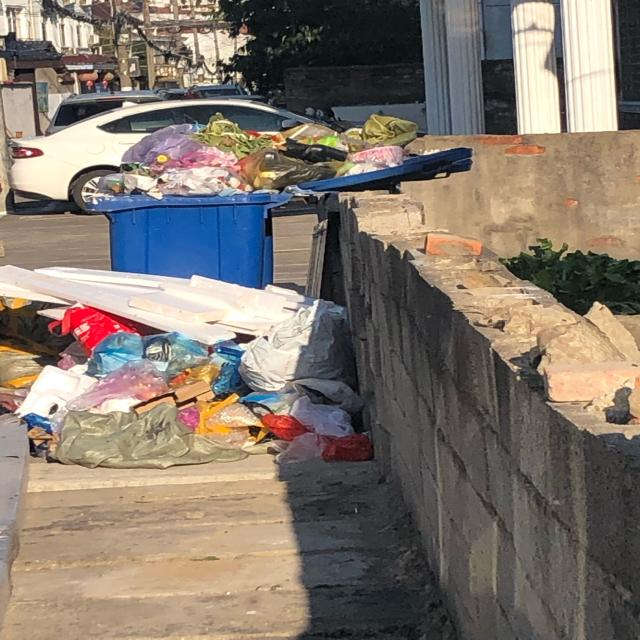garbage: (0, 266, 375, 462)
overflow: (86, 112, 292, 289)
